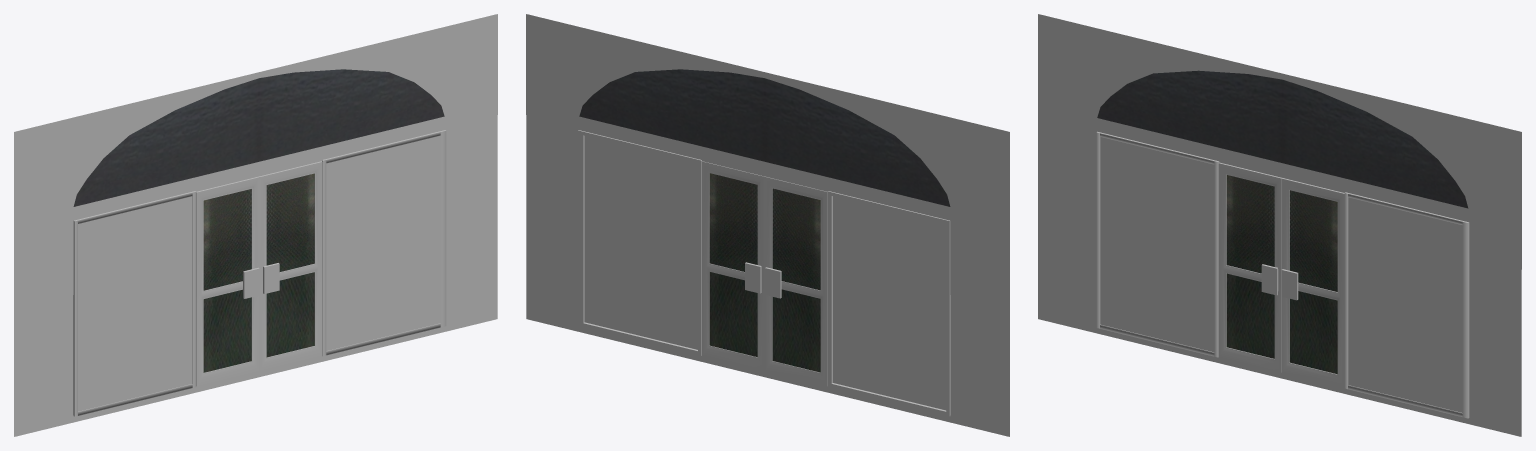
The model's file is shop_Ent02a.fbx.
3 views of the same model, side by side, from view 1: azimuth 30°, elevation 25°; view 2: azimuth 150°, elevation 25°; view 3: azimuth 330°, elevation 25° (orthographic).
Parts seen in each view (by area): view 1: shop_Ent02a; view 2: shop_Ent02a; view 3: shop_Ent02a.
Boxes of the visible parts, <box> form: shop_Ent02a: <box>14,14,497,436</box>; shop_Ent02a: <box>526,14,1009,436</box>; shop_Ent02a: <box>1038,14,1521,436</box>.
Bounding box in the file's own units: 5.34 × 3.22 × 0.1141.
